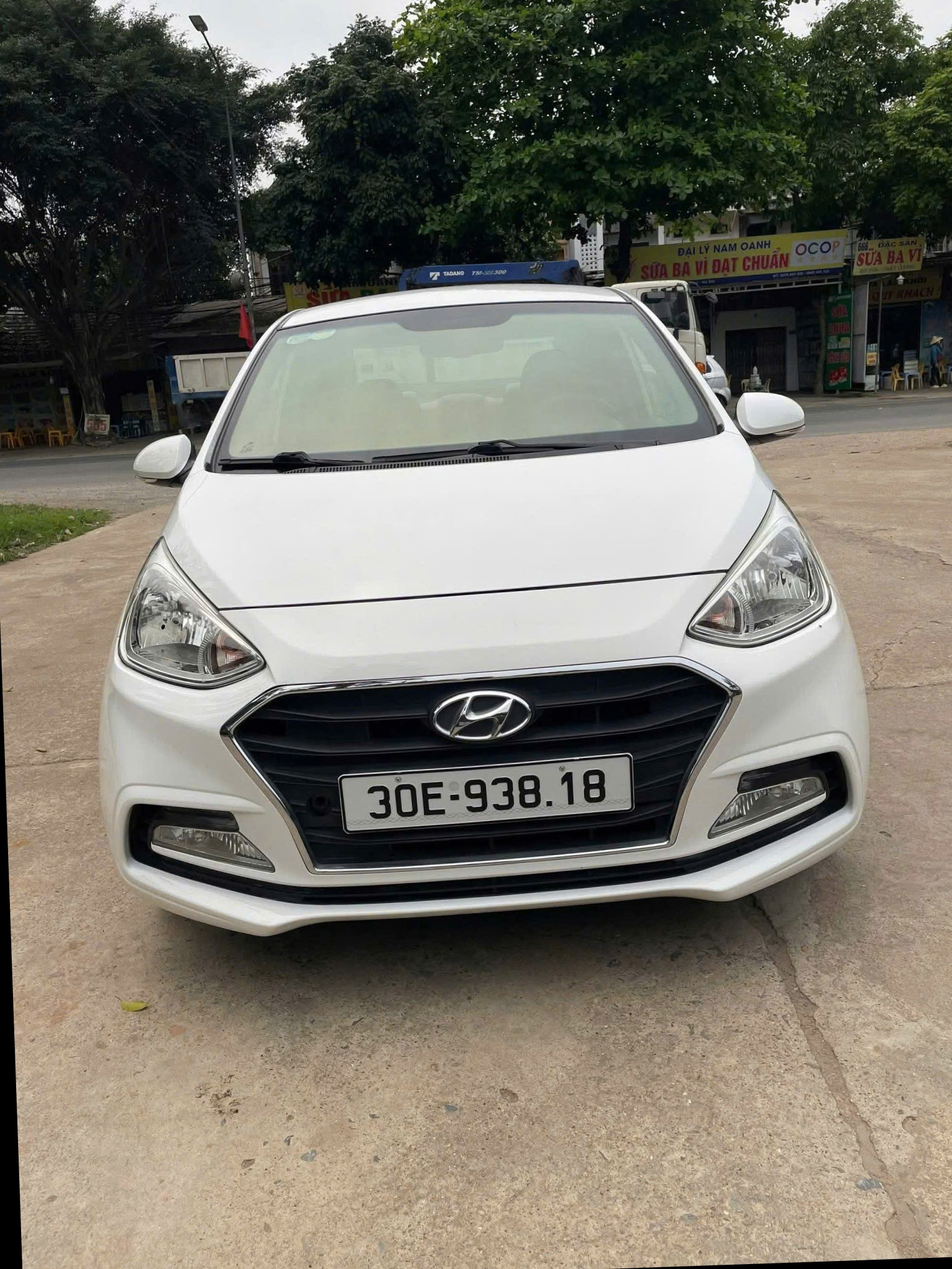Bien-so: (338, 758, 640, 832)
